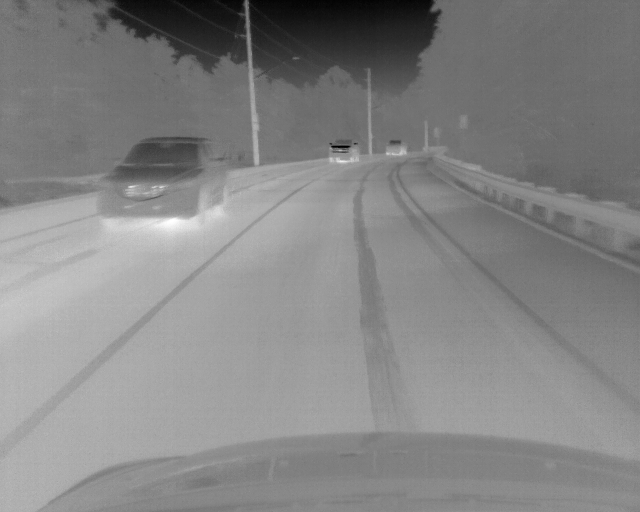car: (95, 137, 232, 228), (327, 138, 361, 164), (383, 137, 409, 159)
